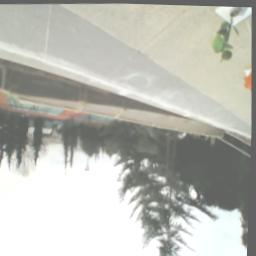herb: (211, 16, 244, 66)
